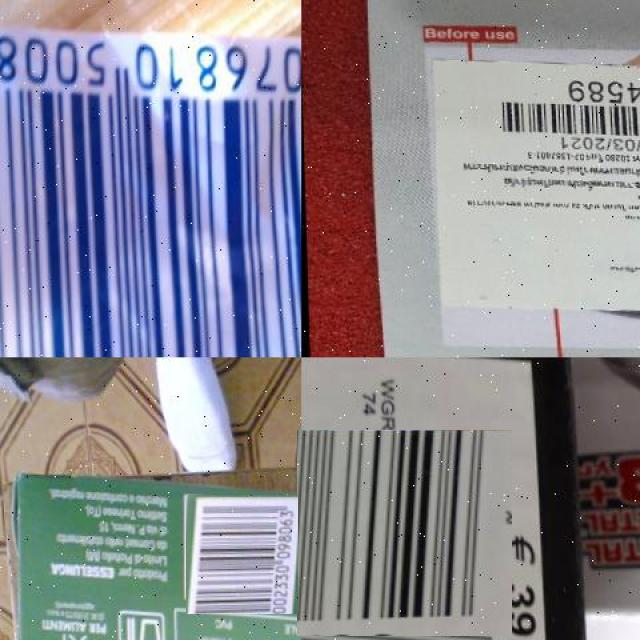Barcode: (0, 22, 302, 357), (299, 427, 510, 638), (183, 497, 300, 612), (483, 76, 640, 152)
